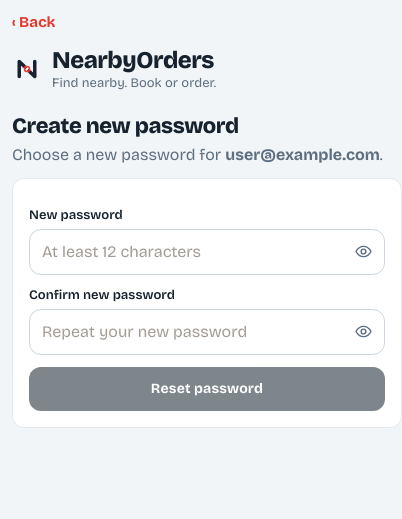
Test: NewPasswordScreen › invalid code offers a recovery path back to resend
The image size is (402, 519).
Type "anewsecurepassword1" into the password field labelled "New password" at (207, 252), box [29,228,385,274]
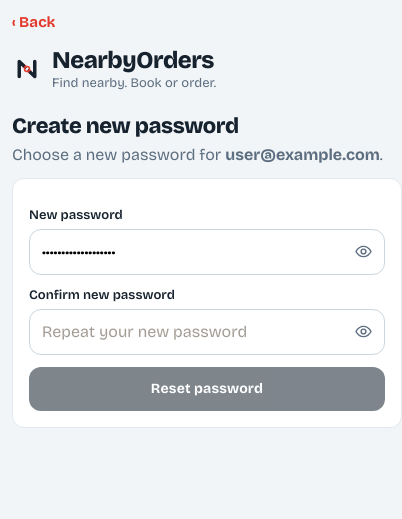
Type "anewsecurepassword1" into the password field labelled "Confirm new password" at (207, 332), box [29,308,385,354]
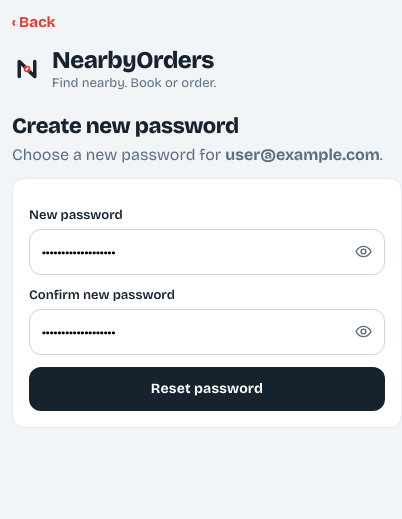
Click the button "Reset password" at (207, 388), box [29,366,385,410]
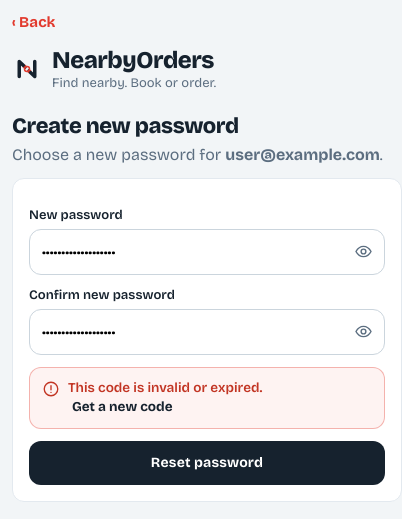
Result: the text "This code is invalid or expired." is shown at [68,378,262,396]
Result: the button "Get a new code" is shown at [68,396,177,416]
